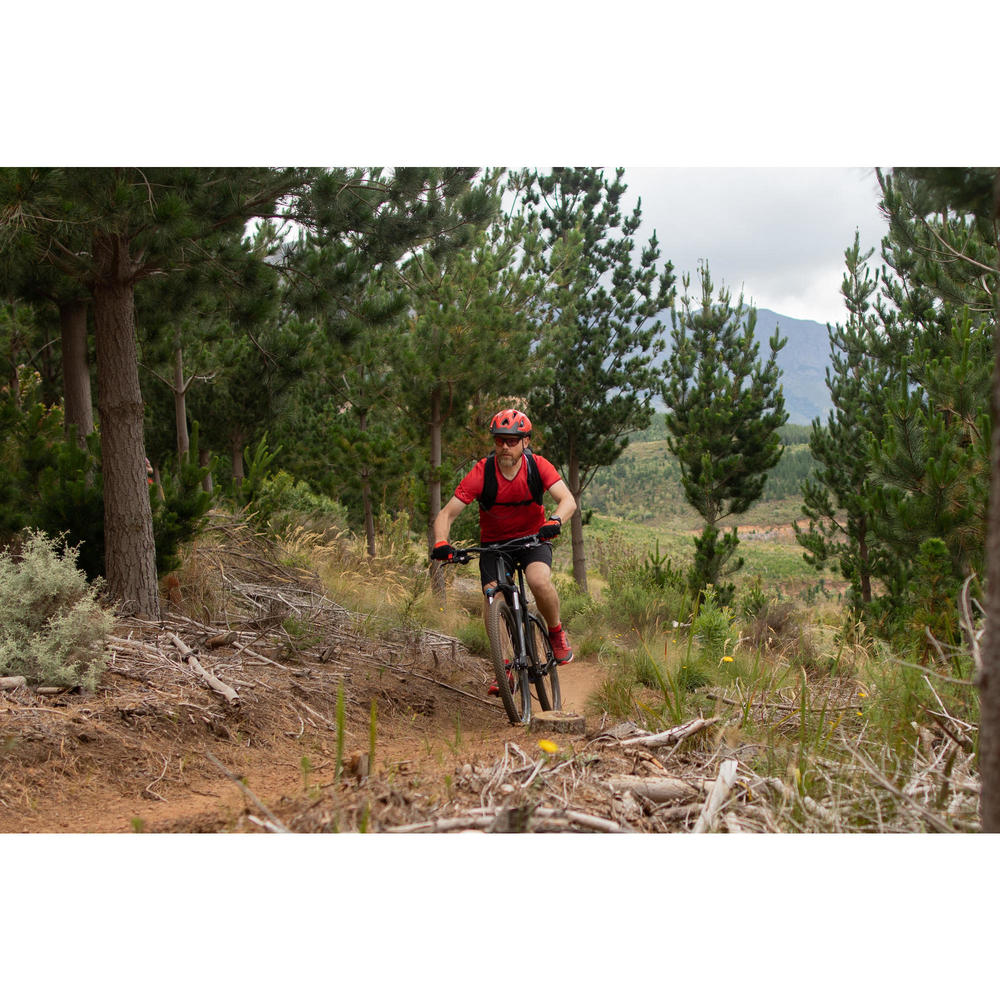MountainBike: (412, 507, 588, 739)
